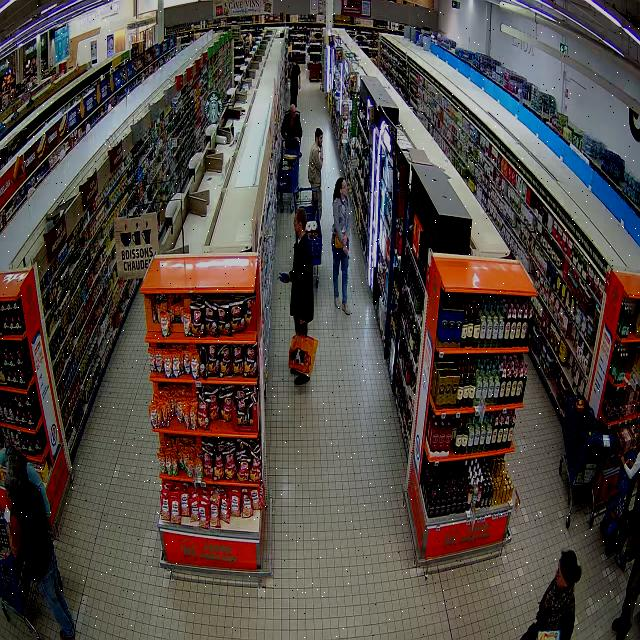article: (279, 272, 290, 283)
bags: (334, 236, 343, 249)
hands: (46, 516, 52, 528), (342, 235, 348, 245), (299, 318, 306, 325), (320, 147, 324, 158), (343, 247, 348, 253), (295, 137, 300, 142)
person: (5, 474, 74, 640), (521, 550, 581, 640), (0, 439, 52, 527), (280, 208, 313, 336), (331, 177, 352, 314), (308, 128, 323, 221), (281, 104, 302, 143)
